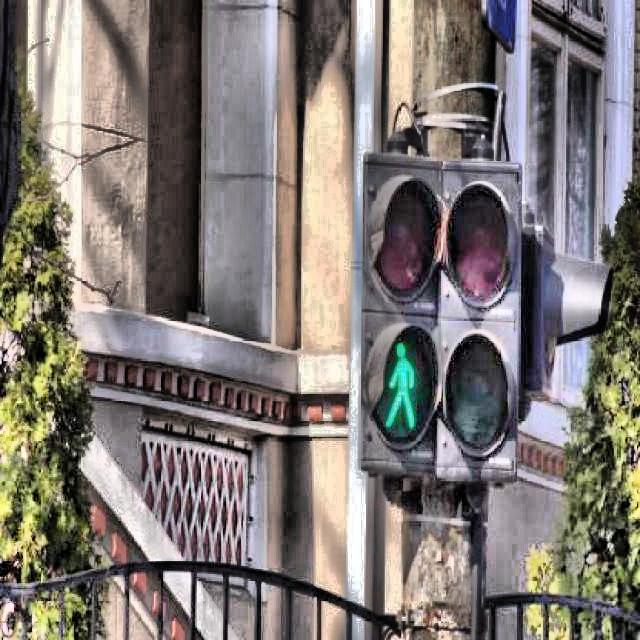semaforo pedestre: (310, 99, 578, 584)
